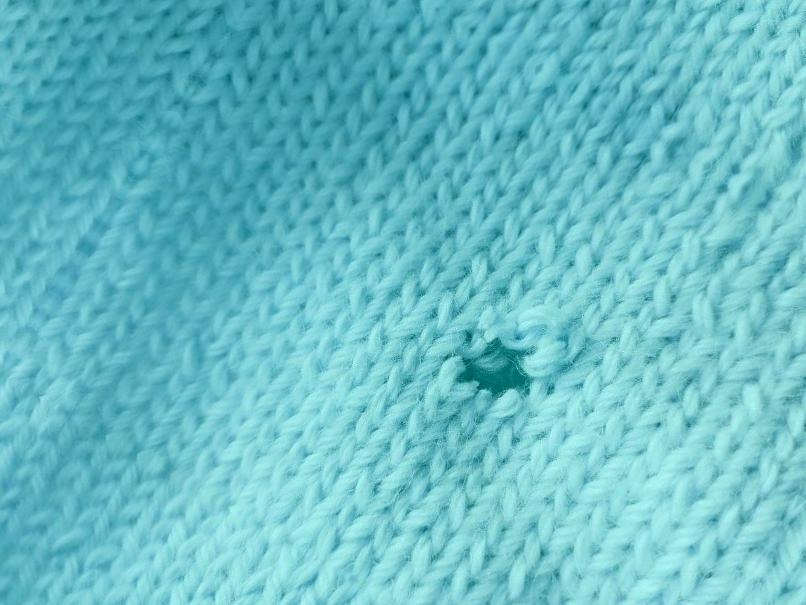hole: (426, 327, 559, 420)
